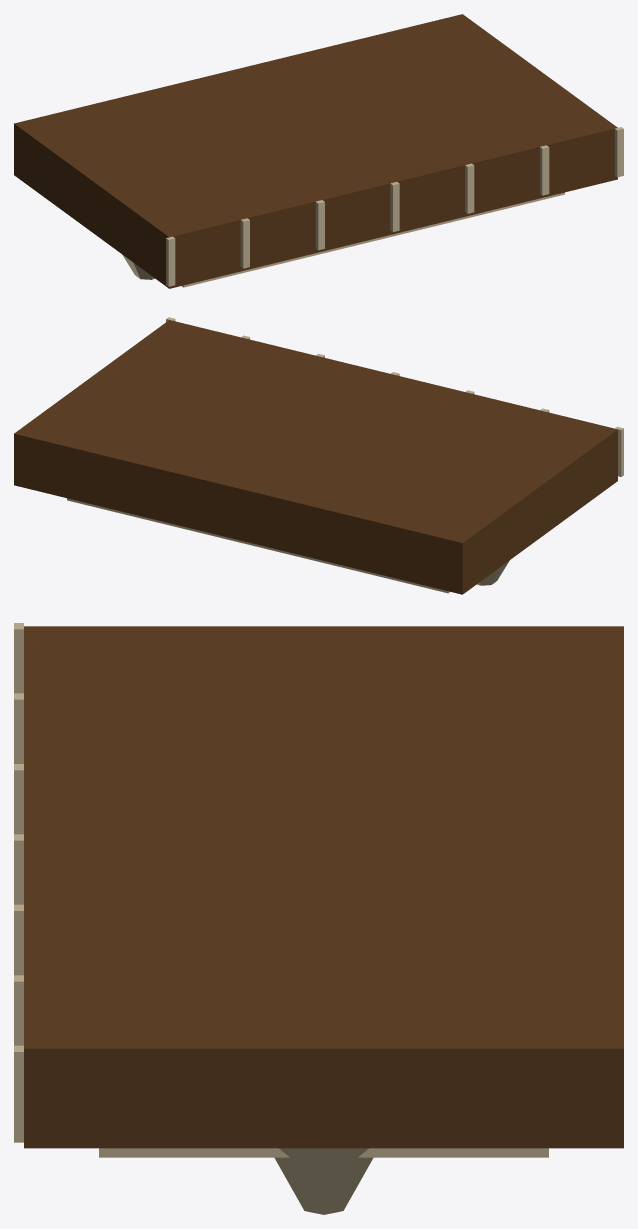
Rendered from faller.glb.
3 views of the same model, one above another, from view 1: azimuth 30°, elevation 25°; view 2: azimuth 150°, elevation 25°; view 3: azimuth 270°, elevation 25° (orthographic). The views are drawn at different scales.
Visible parts, largest first — view 1: Model; view 2: Model; view 3: Model.
Boxes of the visible parts, x1,y1,x2,y2 form: Model: [14, 14, 623, 288]; Model: [14, 317, 623, 594]; Model: [14, 623, 623, 1214].
Bounding box in the file's own units: 2.03 × 0.46 × 1.22.
1 material, 1 textured.
